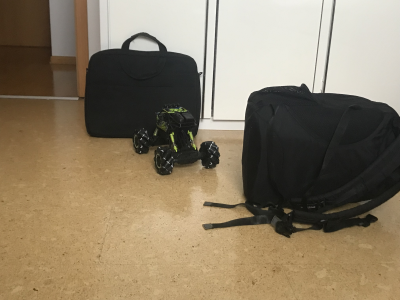remote control car: (130, 101, 221, 178)
